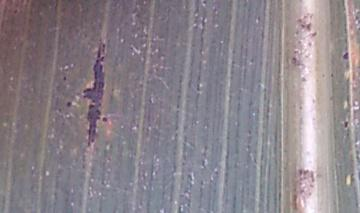tarspot: (81, 42, 104, 148), (289, 55, 308, 69), (297, 167, 310, 177), (309, 168, 317, 183), (341, 50, 350, 61), (310, 30, 318, 40), (305, 21, 313, 31), (65, 99, 73, 108), (299, 74, 307, 83), (343, 120, 349, 131), (298, 22, 306, 30), (11, 7, 19, 14), (61, 74, 68, 82), (100, 116, 108, 122), (329, 71, 335, 79), (296, 17, 302, 25), (202, 1, 208, 5)
